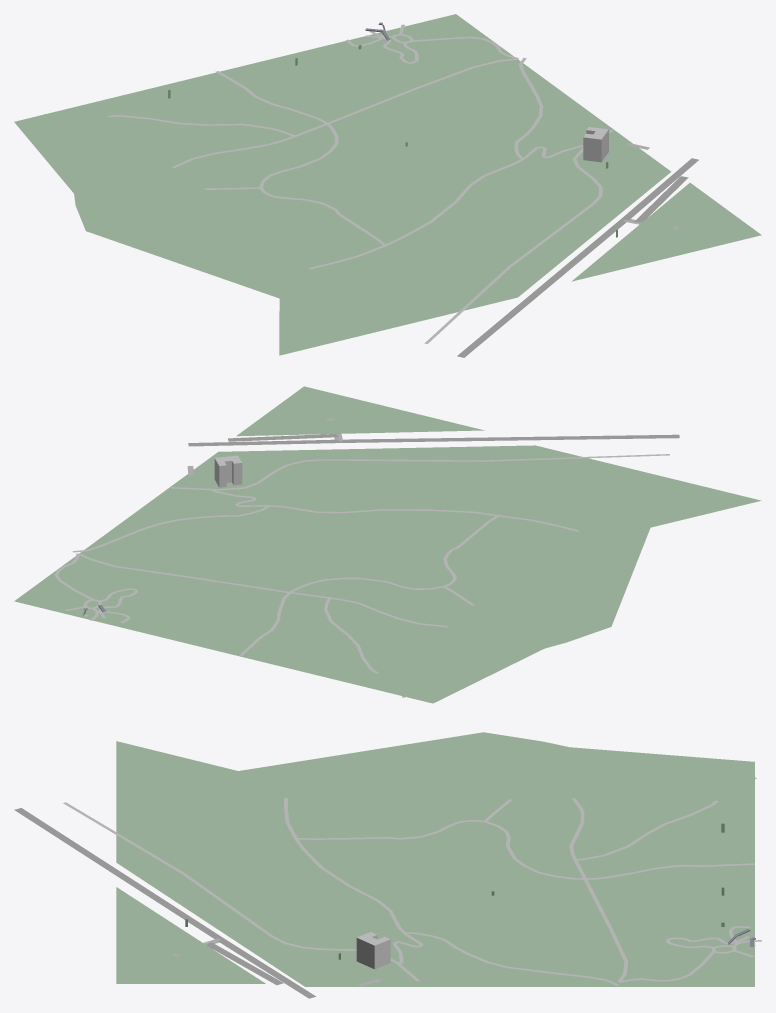
3 renders of one model, top to bottom at view 1: azimuth 30°, elevation 25°; view 2: azimuth 150°, elevation 25°; view 3: azimuth 270°, elevation 25°, orthographic. The views are drawn at different scales.
Bounding box in the file's own units: 500 × 24.09 × 586.
